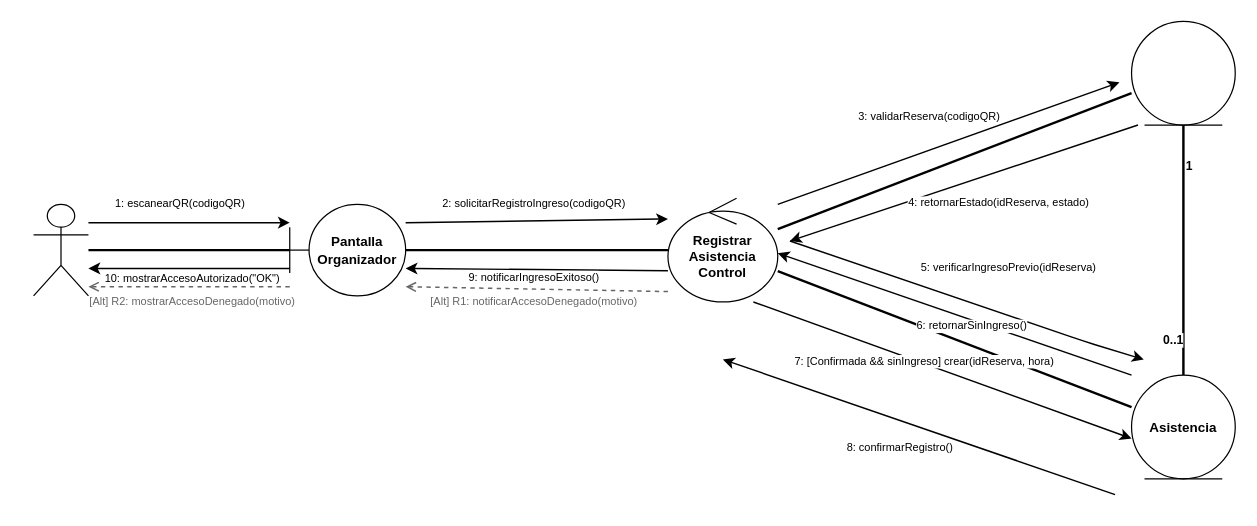
The diagram is 1257 pixels wide and 526 high, and some of its shapes have lost their labels. Each missing label, with the box of its shape:
Organizador: (32, 203, 88, 296)
Reserva: (1130, 20, 1235, 125)
